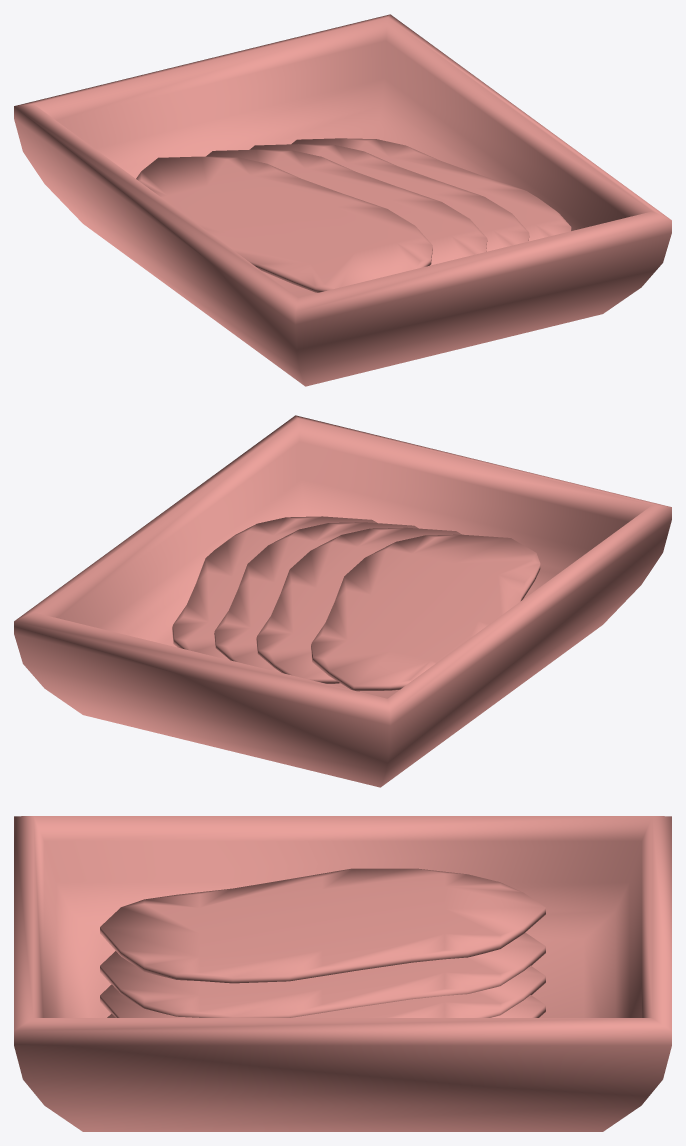
The model's file is Prosciutto_Cotto_Plastica.fbx.
The picture shows the model from 3 angles, top to bottom: view 1: azimuth 30°, elevation 25°; view 2: azimuth 150°, elevation 25°; view 3: azimuth 270°, elevation 25°; orthographic projection. The views are drawn at different scales.
Parts seen in each view (by area): view 1: vaschetta.002; view 2: vaschetta.002; view 3: vaschetta.002.
Part boxes in pixels (x1,y1,x2,y2): vaschetta.002: (14, 14, 671, 386); vaschetta.002: (14, 415, 671, 787); vaschetta.002: (14, 816, 671, 1131).
Size of the model in its own units: 101 by 28.59 by 131.
